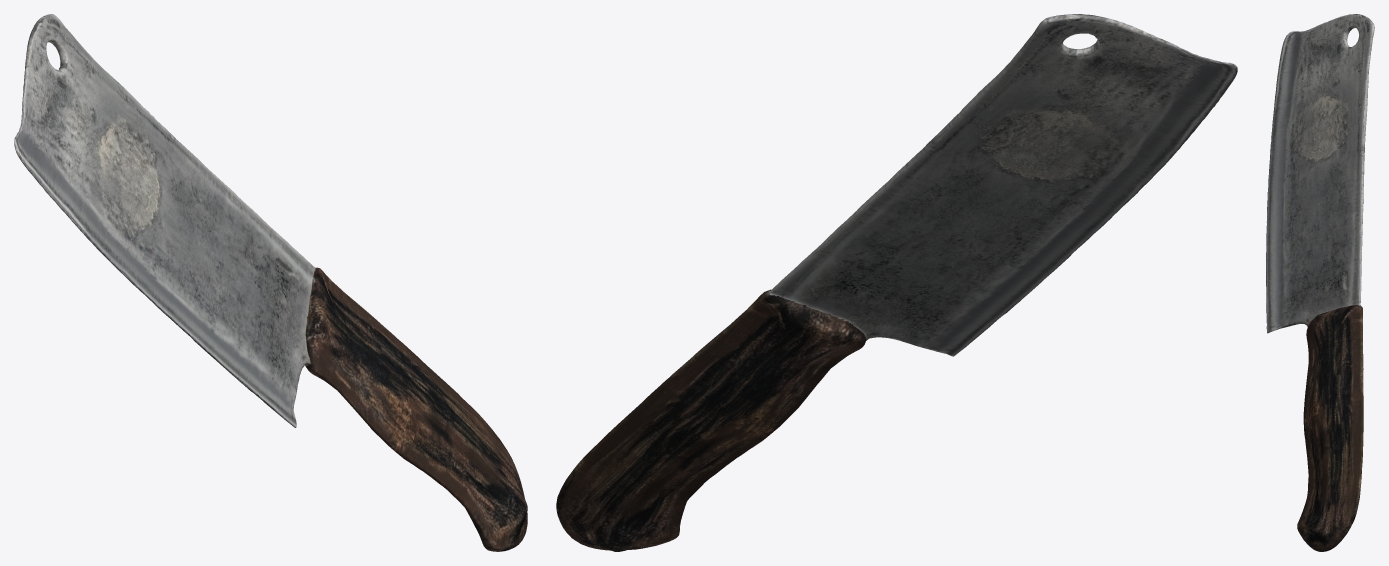
Rendered from weapon_cleaver.glb.
3 views of the same model, side by side, from view 1: azimuth 30°, elevation 25°; view 2: azimuth 150°, elevation 25°; view 3: azimuth 270°, elevation 25° (orthographic). The views are drawn at different scales.
Size of the model in its own units: 0.3423 by 0.36 by 0.0901.
Materials: 1 (1 with a texture image).
